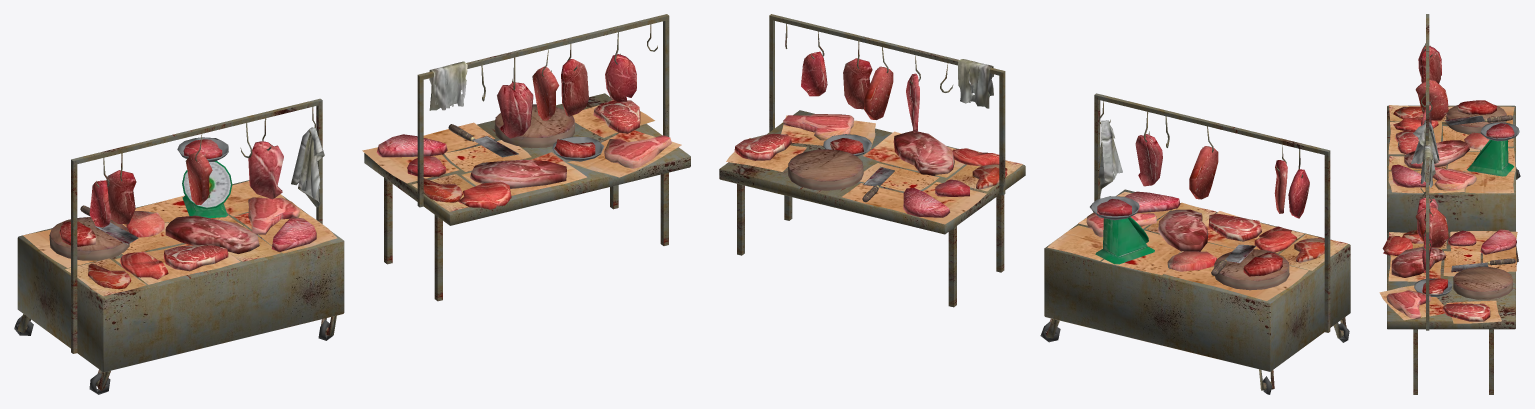
The model's file is sap-thit.glb.
The picture shows the model from 3 angles, left to right: view 1: azimuth 30°, elevation 25°; view 2: azimuth 150°, elevation 25°; view 3: azimuth 270°, elevation 25°; orthographic projection. The views are drawn at different scales.
Visible parts, largest first — view 1: Cube.001, Cube.003; view 2: Cube.001, Cube.003; view 3: Cube.001, Cube.003.
Boxes of the visible parts, x1,y1,x2,y2 form: Cube.001: (14,98,344,394); Cube.003: (362,14,690,301); Cube.001: (1040,93,1350,394); Cube.003: (719,14,1025,307); Cube.001: (1387,14,1520,264); Cube.003: (1379,141,1517,394).
Size of the model in its own units: 1 by 0.3549 by 0.2708.
Materials: 1 (1 with a texture image).
